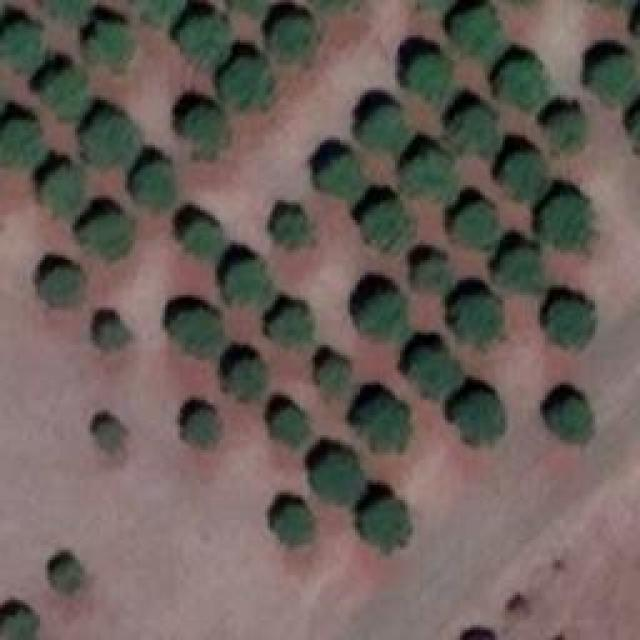Tree: (445, 95, 500, 158), (223, 48, 276, 113), (85, 108, 138, 171), (448, 390, 503, 448), (33, 155, 86, 215), (220, 253, 273, 313), (350, 193, 410, 246), (360, 283, 413, 343), (313, 450, 368, 503), (43, 60, 93, 118), (35, 252, 83, 310), (357, 390, 405, 448), (362, 492, 410, 550), (545, 200, 595, 255), (258, 12, 313, 60), (0, 115, 48, 168), (410, 143, 458, 196), (450, 200, 498, 253), (543, 393, 593, 443), (548, 298, 598, 348), (495, 55, 545, 105), (83, 200, 128, 255), (170, 308, 225, 353), (450, 3, 498, 53), (182, 13, 230, 63), (177, 103, 225, 153), (453, 290, 498, 343), (403, 335, 448, 388), (312, 147, 360, 195), (88, 18, 131, 71), (408, 53, 453, 103), (130, 160, 175, 210), (0, 20, 45, 68), (178, 207, 223, 255), (407, 250, 455, 295), (503, 145, 546, 195), (505, 245, 548, 293), (227, 350, 265, 403), (270, 300, 315, 343), (268, 203, 313, 243), (310, 345, 350, 390), (595, 53, 635, 98), (180, 405, 220, 448), (268, 403, 308, 446), (275, 500, 313, 545), (360, 105, 403, 143), (545, 108, 585, 148), (48, 553, 83, 593), (130, 0, 183, 25), (0, 610, 40, 640), (37, 0, 87, 22), (90, 315, 123, 348), (90, 418, 123, 451)
